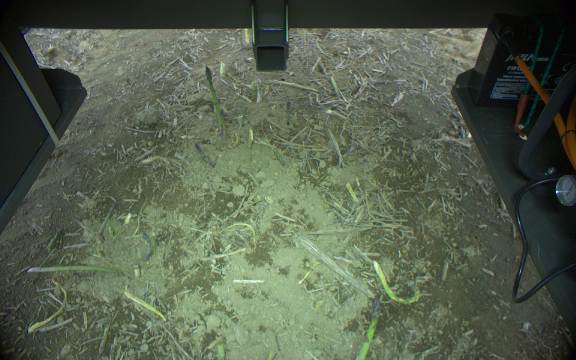aspa: (370, 258, 422, 304), (351, 298, 384, 360), (203, 64, 227, 138), (26, 262, 120, 279), (139, 232, 155, 263)
